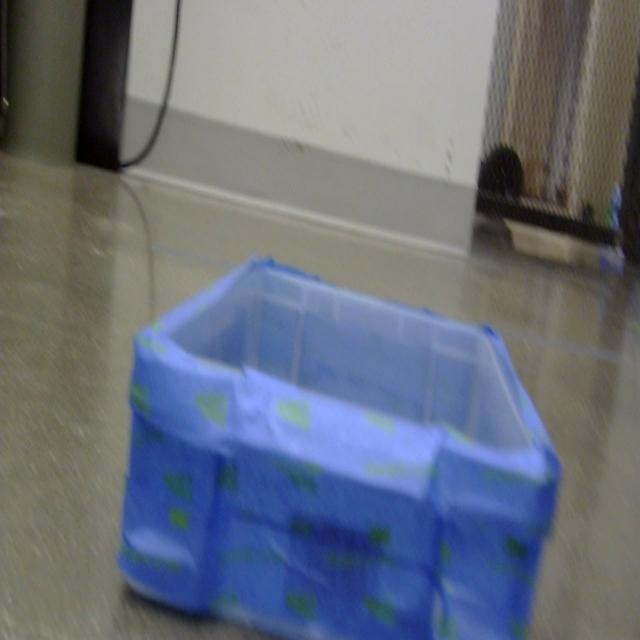bucket: (116, 257, 562, 640)
